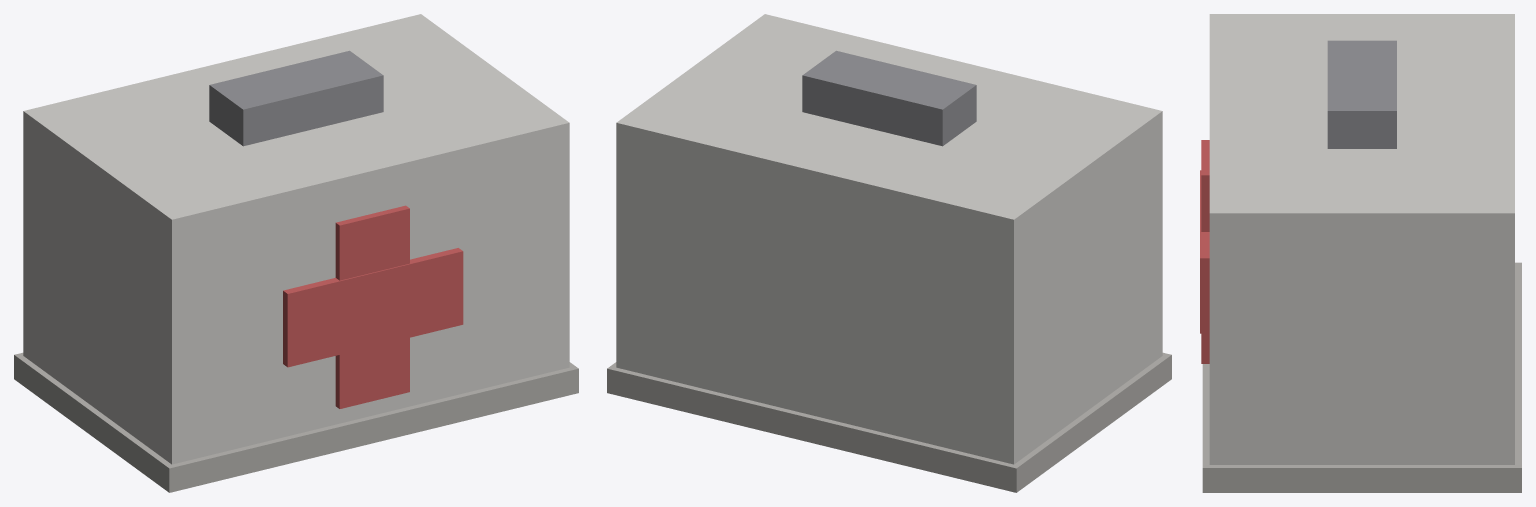
The model's file is kit.glb.
3 views of the same model, side by side, from view 1: azimuth 30°, elevation 25°; view 2: azimuth 150°, elevation 25°; view 3: azimuth 270°, elevation 25° (orthographic). The views are drawn at different scales.
Visible parts, largest first — view 1: kit_medico; view 2: kit_medico; view 3: kit_medico.
Boxes of the visible parts, x1,y1,x2,y2 form: kit_medico: (14,14,578,492); kit_medico: (607,14,1171,492); kit_medico: (1200,14,1521,492).
Size of the model in its own units: 0.35 by 0.25 by 0.232.
